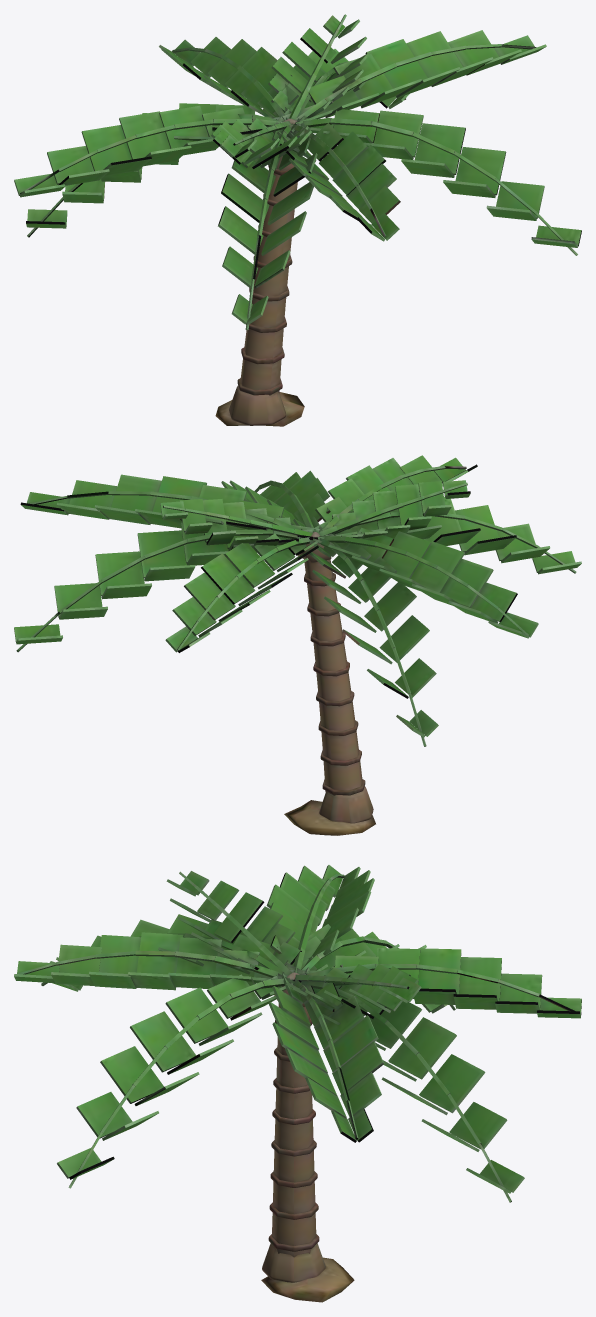
File: palm_c.glb
3 views of the same model, one above another, from view 1: azimuth 30°, elevation 25°; view 2: azimuth 150°, elevation 25°; view 3: azimuth 270°, elevation 25° (orthographic). The views are drawn at different scales.
Visible parts, largest first — view 1: palm_c; view 2: palm_c; view 3: palm_c.
Boxes of the visible parts, box(x1,y1,x2,y2) form: palm_c: box(14, 14, 581, 426); palm_c: box(14, 455, 581, 835); palm_c: box(14, 865, 581, 1302).
Size of the model in its own units: 4.88 by 2.93 by 4.16.
Materials: 1 (1 with a texture image).
